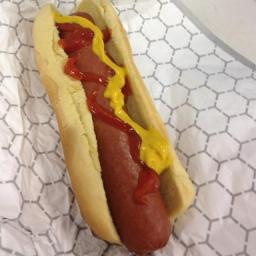hotdog: (56, 13, 172, 252)
